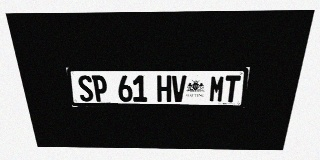1: (132, 75, 147, 102)
6: (117, 75, 133, 102)
H: (157, 75, 171, 102)
M: (209, 75, 225, 102)
P: (91, 75, 108, 102)
S: (77, 75, 94, 101)
T: (223, 75, 241, 102)
V: (171, 75, 186, 102)
